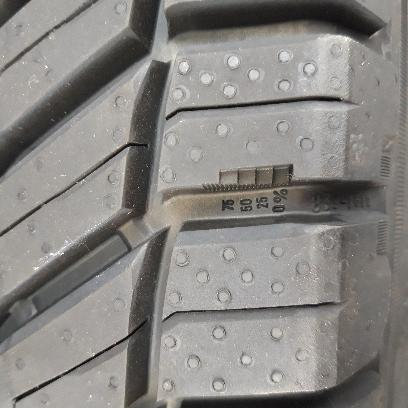temoin:100: (202, 163, 296, 194)
